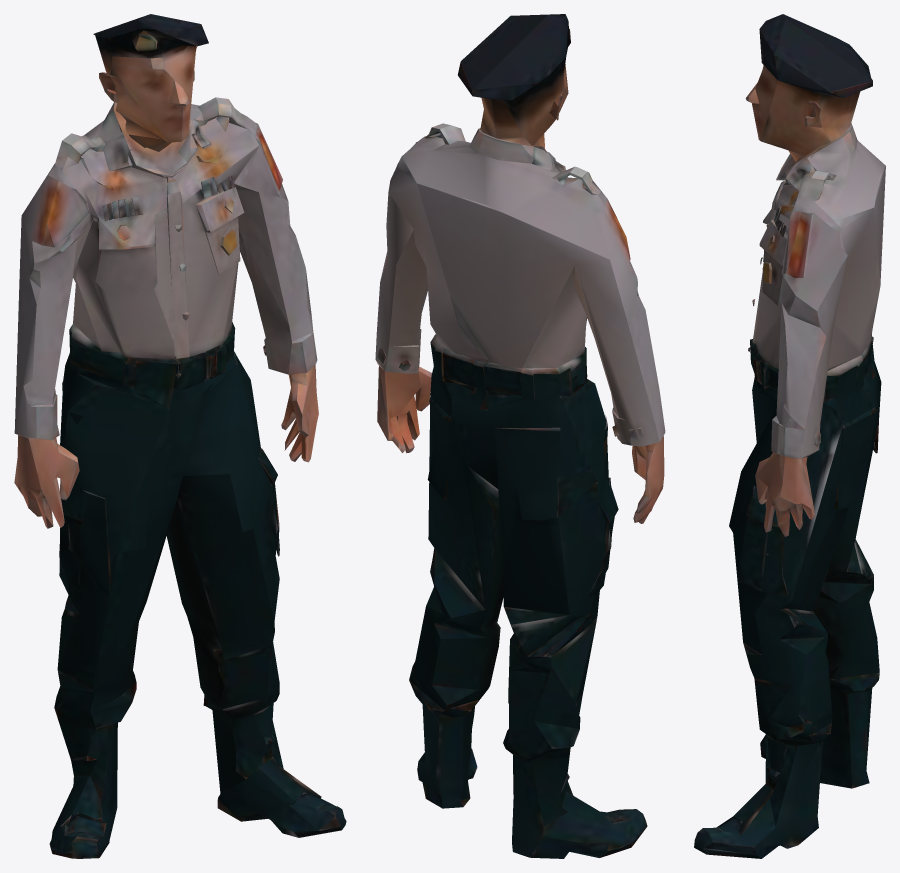
File: polisi_idle_lod2.glb
3 views of the same model, side by side, from view 1: azimuth 30°, elevation 25°; view 2: azimuth 150°, elevation 25°; view 3: azimuth 270°, elevation 25° (orthographic). The views are drawn at different scales.
Parts seen in each view (by area): view 1: tripo_node_0de06b4d; view 2: tripo_node_0de06b4d; view 3: tripo_node_0de06b4d.
Boxes of the visible parts, <box> form: tripo_node_0de06b4d: <box>14,14,346,858</box>; tripo_node_0de06b4d: <box>375,14,665,858</box>; tripo_node_0de06b4d: <box>694,14,885,858</box>.
Bounding box in the file's own units: 36.93 × 99.47 × 22.34.
1 material, 1 textured.
